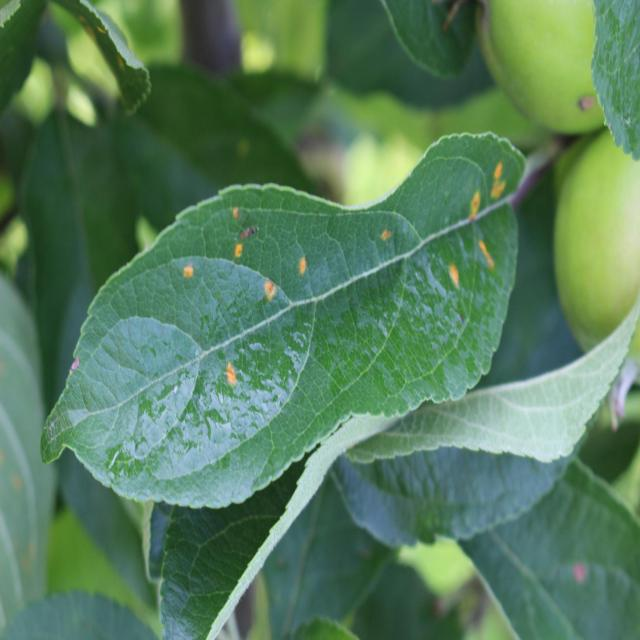Rust: (486, 160, 510, 212), (567, 546, 587, 595), (475, 236, 498, 276), (466, 192, 482, 226), (178, 255, 196, 284), (446, 261, 461, 294), (377, 220, 394, 248), (222, 363, 238, 392), (295, 255, 311, 281), (93, 16, 107, 44), (117, 47, 128, 80), (261, 277, 276, 301), (234, 242, 247, 262), (75, 8, 86, 29), (230, 202, 239, 221)
